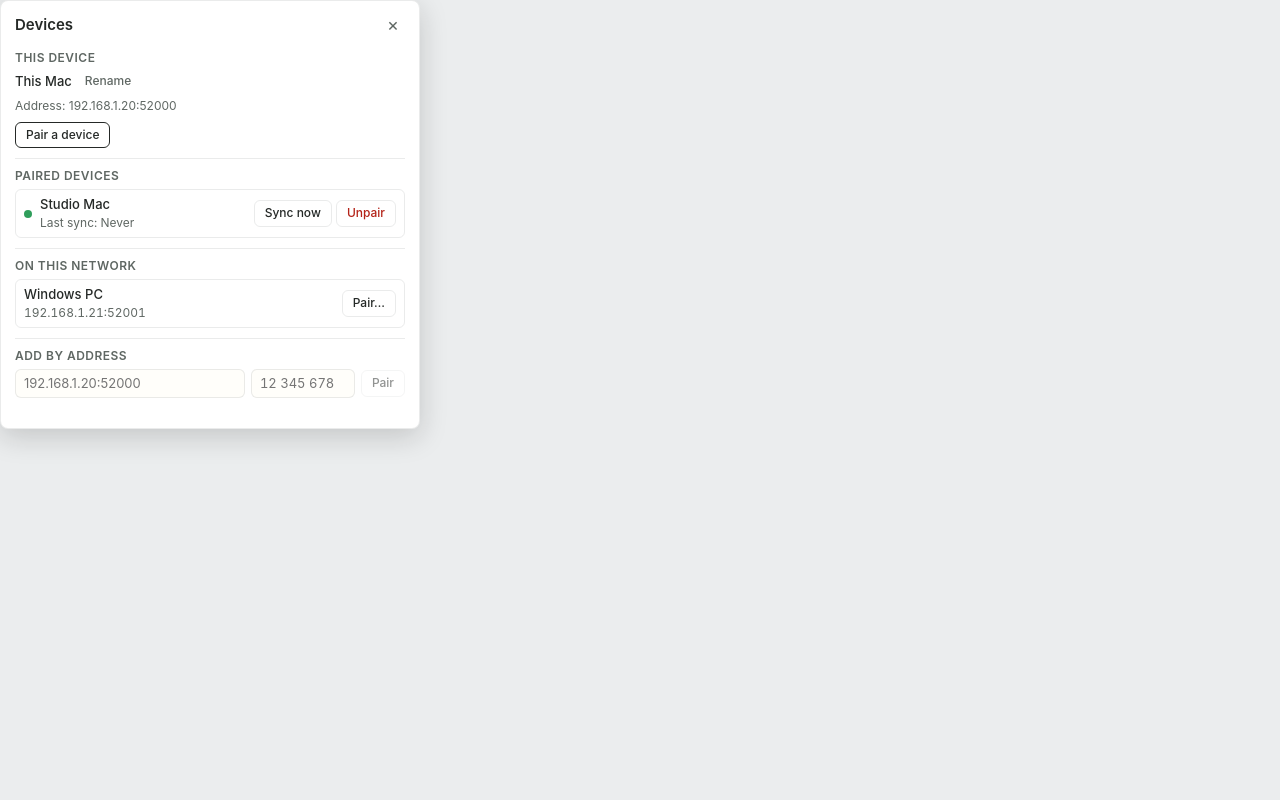
Test: DevicesDialog › 'Sync now' stamps the last sync time and 'Unpair' removes the device
The image size is (1280, 800).
What coordinates should you click on to do the following:
click the button with test id "paired-sync-now"
I would click on:
 (293, 214)
Its box is [254,200,332,227].
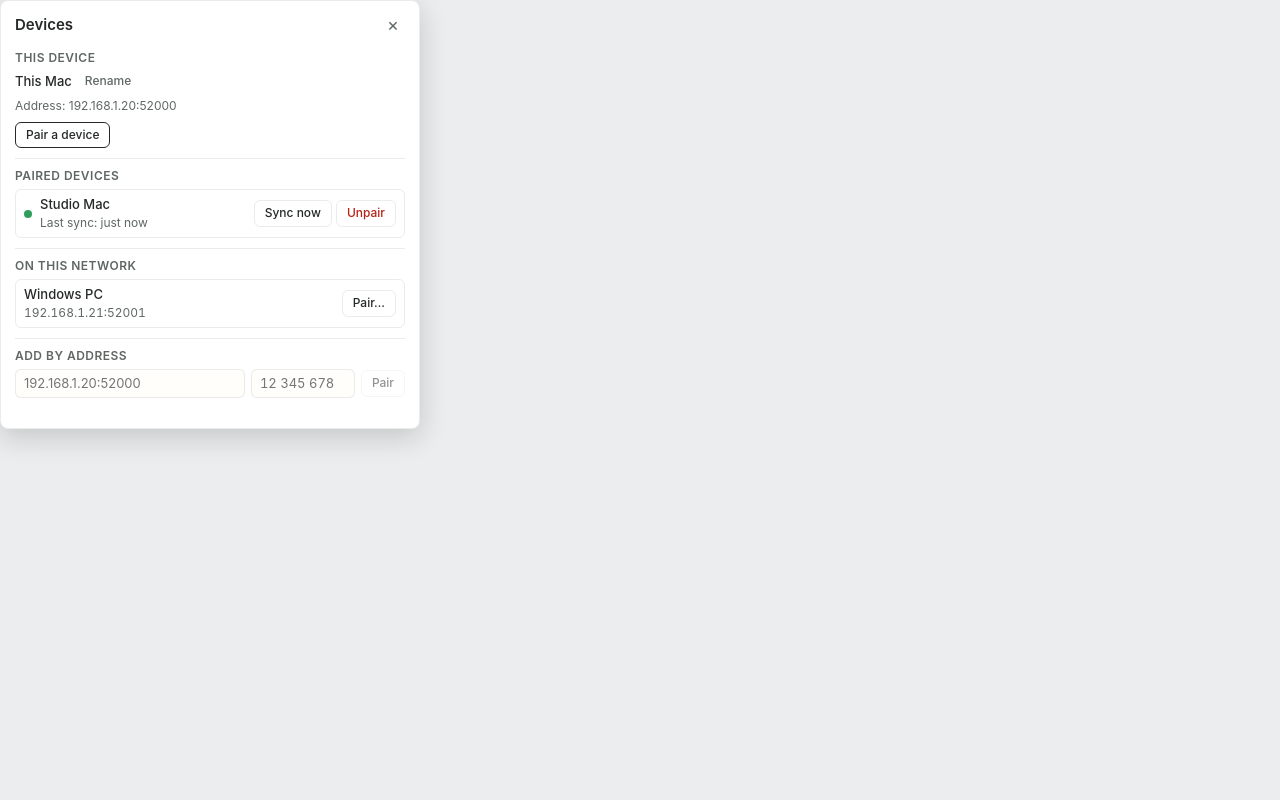
Now the text with test id "paired-last-sync" reads "Last sync: just now", box [40,215,148,230]
What coordinates should you click on to do the following:
click the button with test id "paired-unpair"
I would click on:
 (366, 214)
Its box is [336,200,396,227].
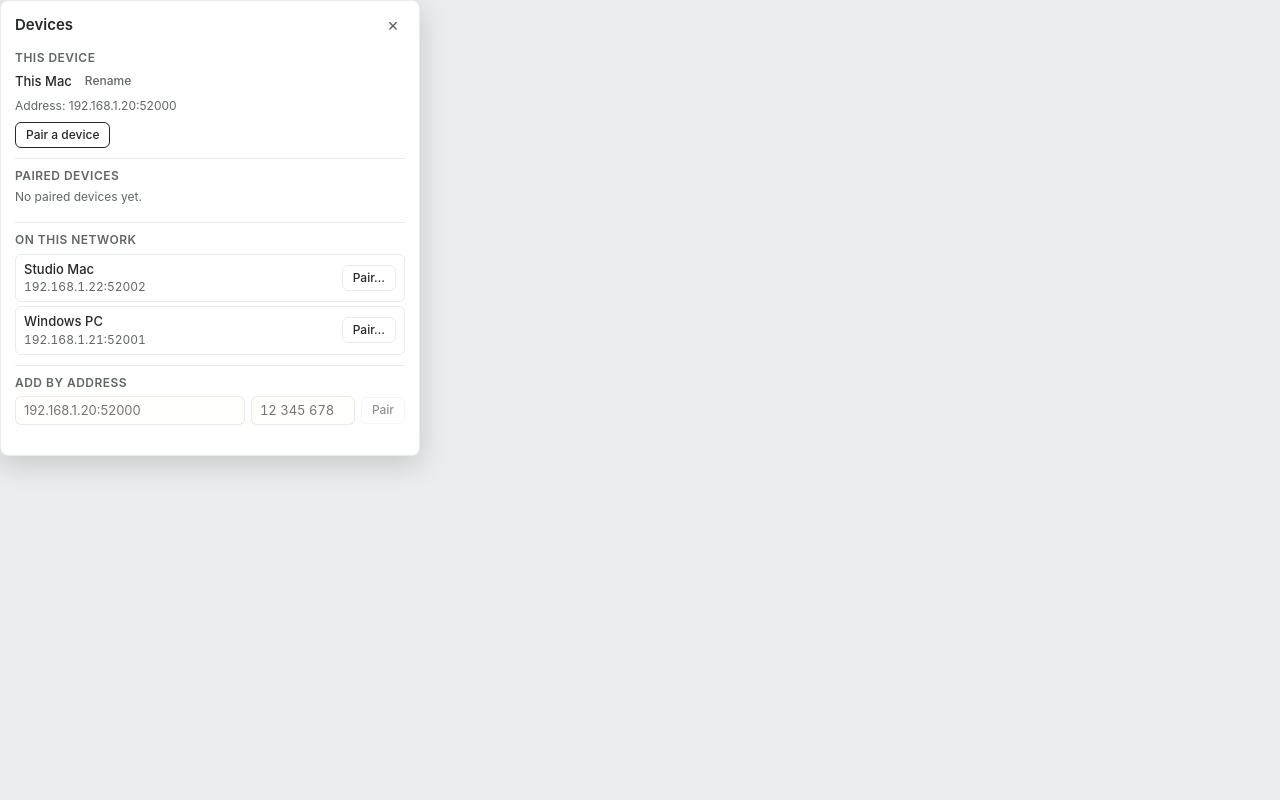
Now the text "No paired devices yet." is shown, box [15,189,142,204]
